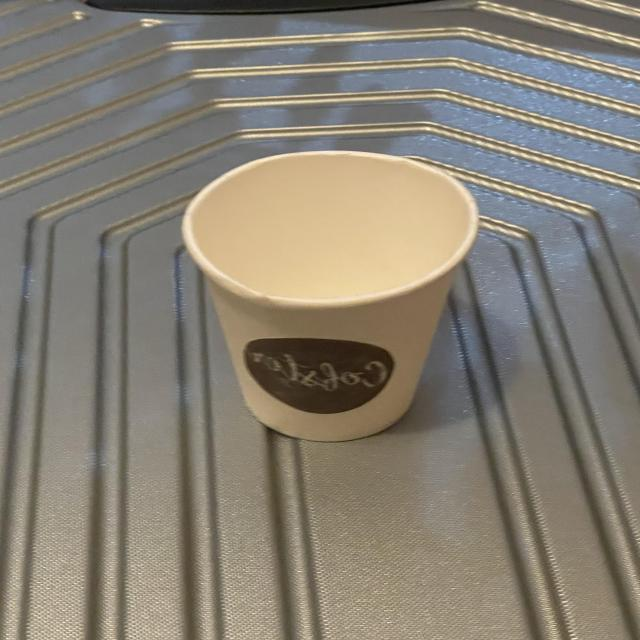medium: (177, 145, 485, 444)
